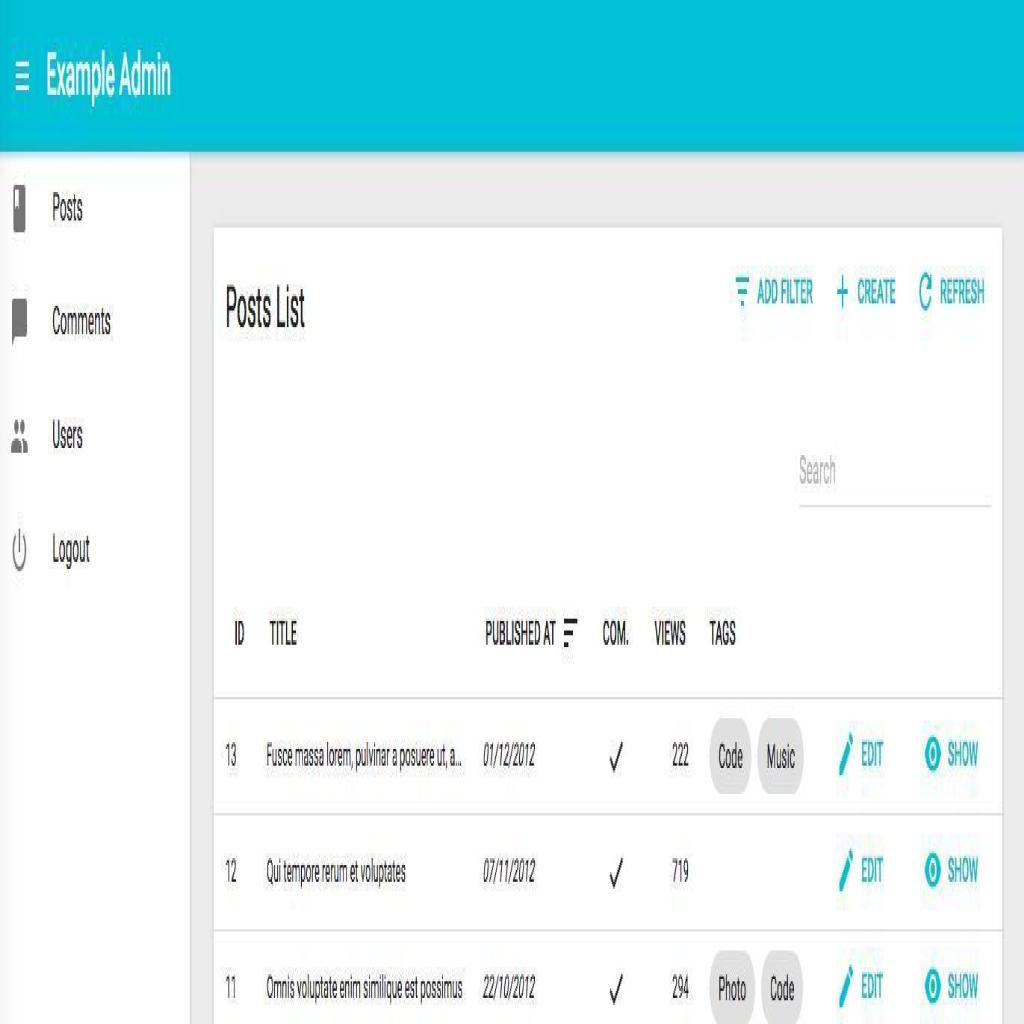icon: (9, 173, 30, 247), (731, 261, 754, 322), (607, 960, 628, 1024), (8, 405, 29, 465), (606, 844, 626, 905), (10, 287, 28, 353), (10, 524, 29, 585), (923, 955, 942, 1015), (604, 723, 625, 777), (923, 723, 941, 782), (837, 718, 852, 787), (839, 842, 854, 910), (837, 955, 854, 1012), (923, 846, 943, 894), (835, 266, 849, 327), (919, 266, 934, 316)
label: (756, 272, 815, 322), (52, 301, 114, 346), (48, 405, 84, 465), (939, 270, 987, 315), (854, 260, 896, 310), (48, 183, 86, 237), (49, 528, 91, 574), (946, 962, 978, 1010), (950, 730, 982, 773), (946, 853, 978, 894), (859, 844, 882, 894), (858, 967, 886, 1008), (860, 730, 885, 775)
